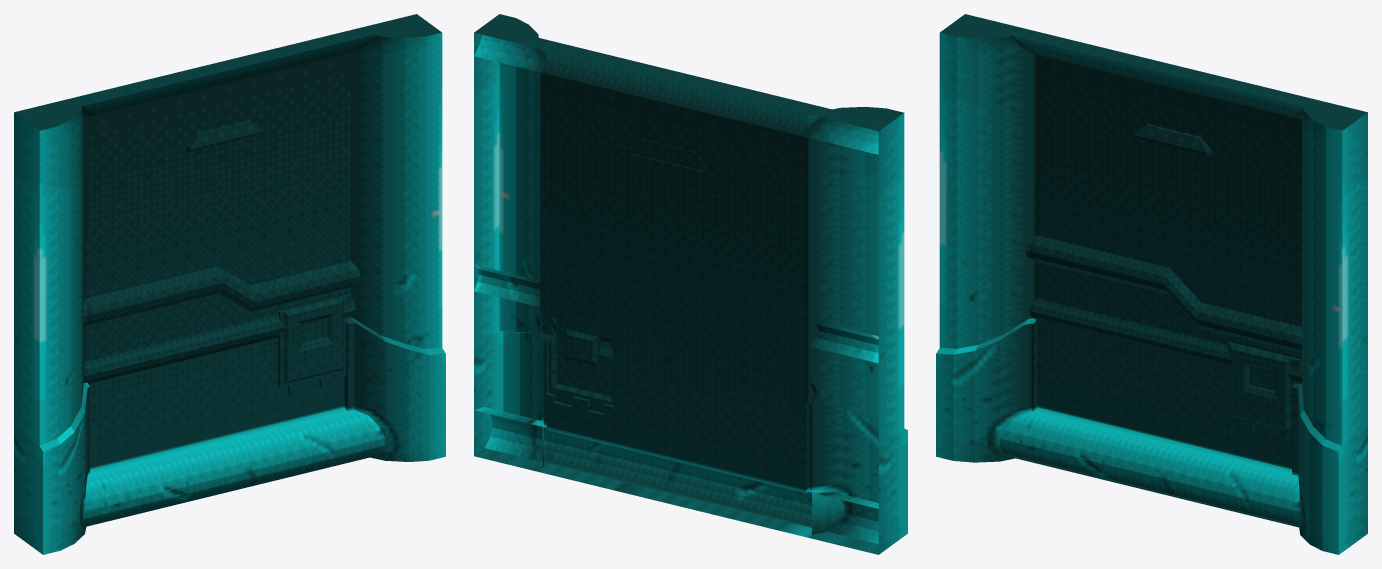
File: stor1_1.fbx
3 renders of one model, left to right at view 1: azimuth 30°, elevation 25°; view 2: azimuth 150°, elevation 25°; view 3: azimuth 330°, elevation 25°, orthographic.
Parts seen in each view (by area): view 1: stor1_1_mesh, stor1_1_mesh_stor1_3light; view 2: stor1_1_mesh; view 3: stor1_1_mesh, stor1_1_mesh_stor1_3light.
Boxes of the visible parts, x1,y1,x2,y2 form: stor1_1_mesh: [14, 14, 445, 554]; stor1_1_mesh_stor1_3light: [186, 120, 264, 152]; stor1_1_mesh: [474, 14, 907, 554]; stor1_1_mesh: [936, 14, 1367, 554]; stor1_1_mesh_stor1_3light: [1133, 124, 1211, 155].
Bounding box in the file's own units: 256 × 256 × 32.4.
